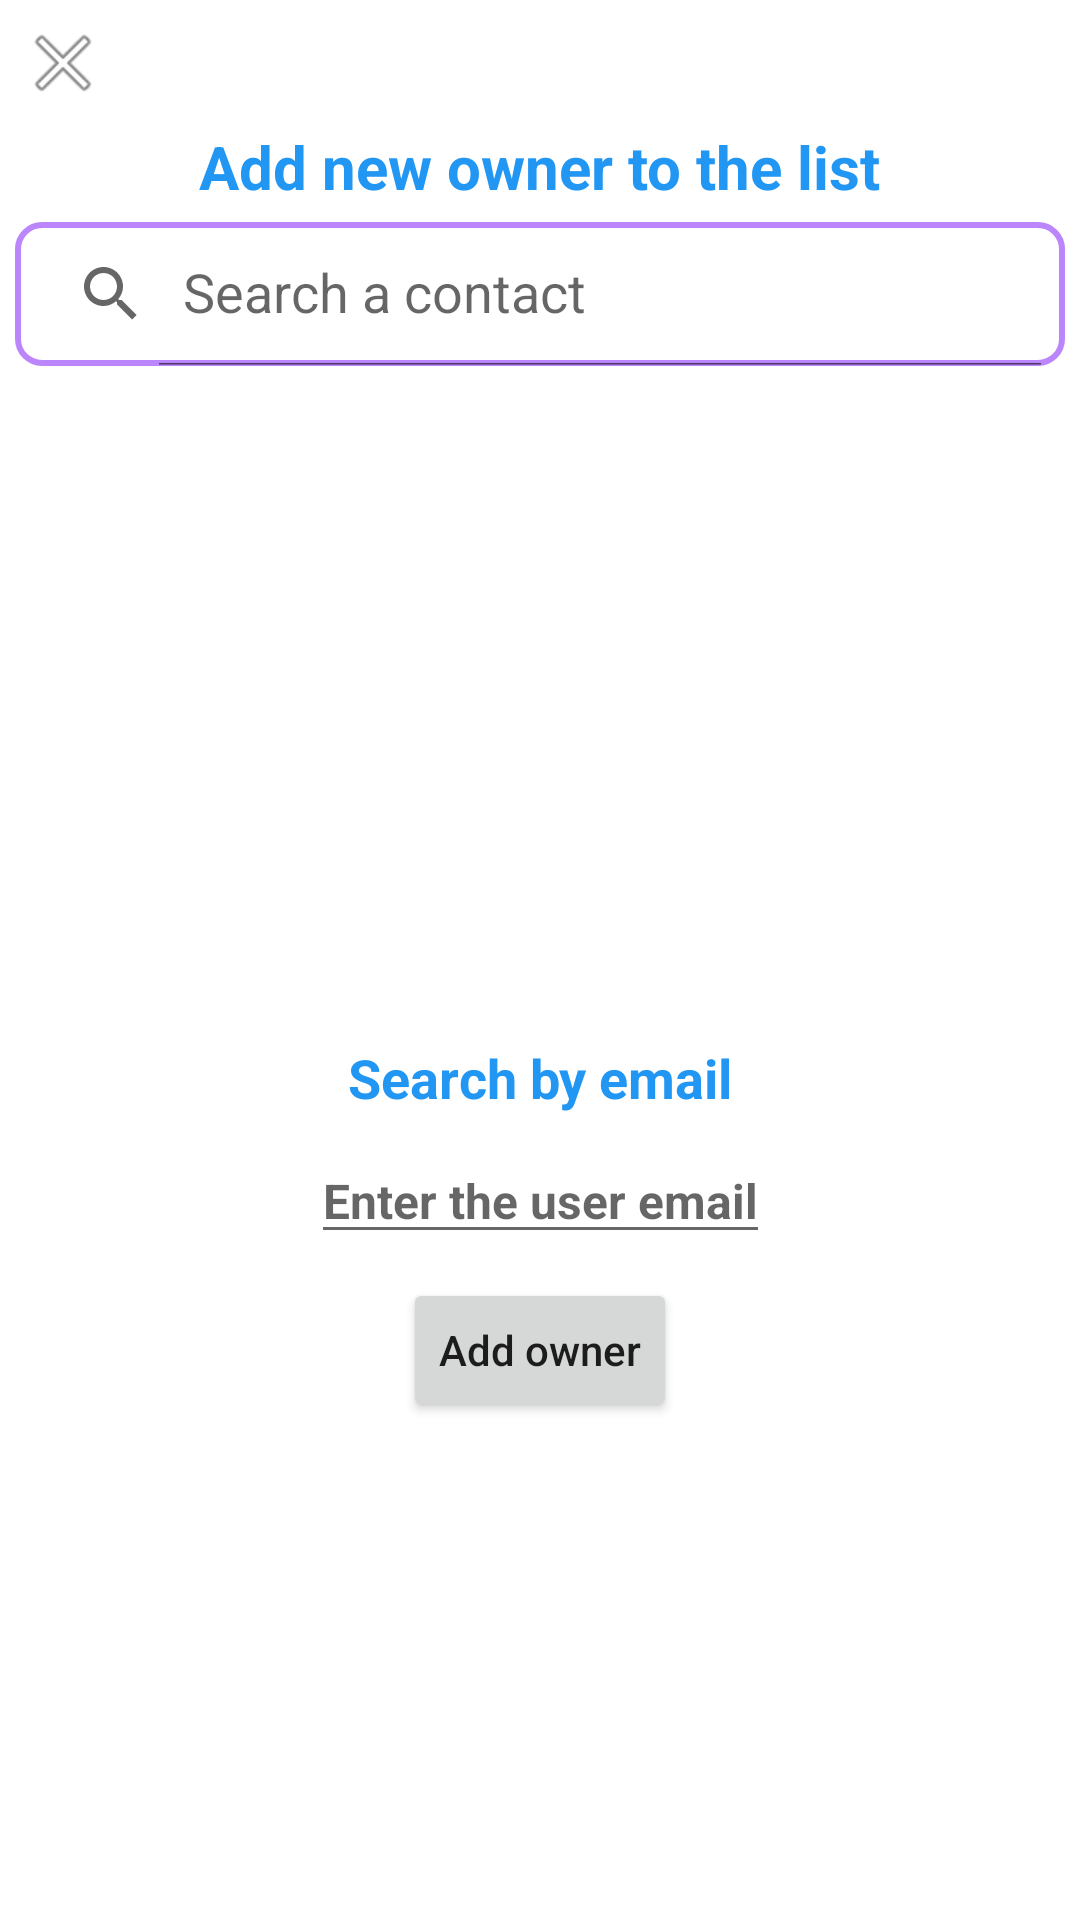

Where icons sit on this 1080x1920 app screen, as (x1, y1, x2, y2):
close clear cancel: (35, 35, 91, 91)
